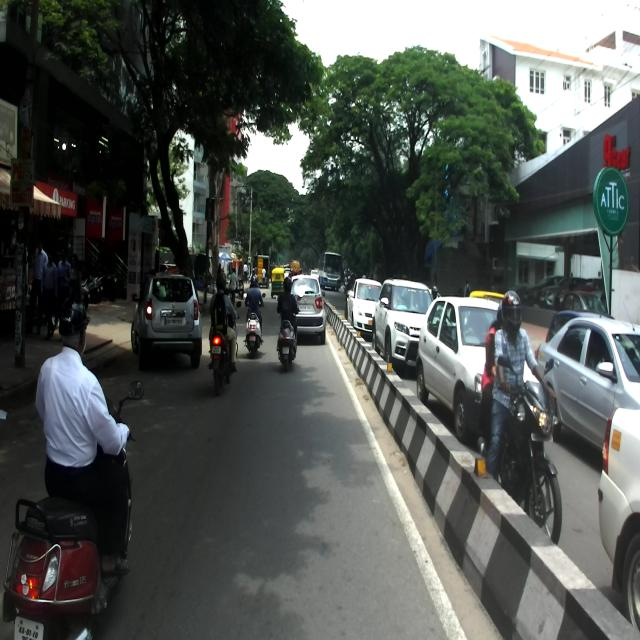car ahead at: (140, 274, 204, 366)
motorcycle ahead at: (8, 495, 138, 640), (500, 354, 570, 550)
